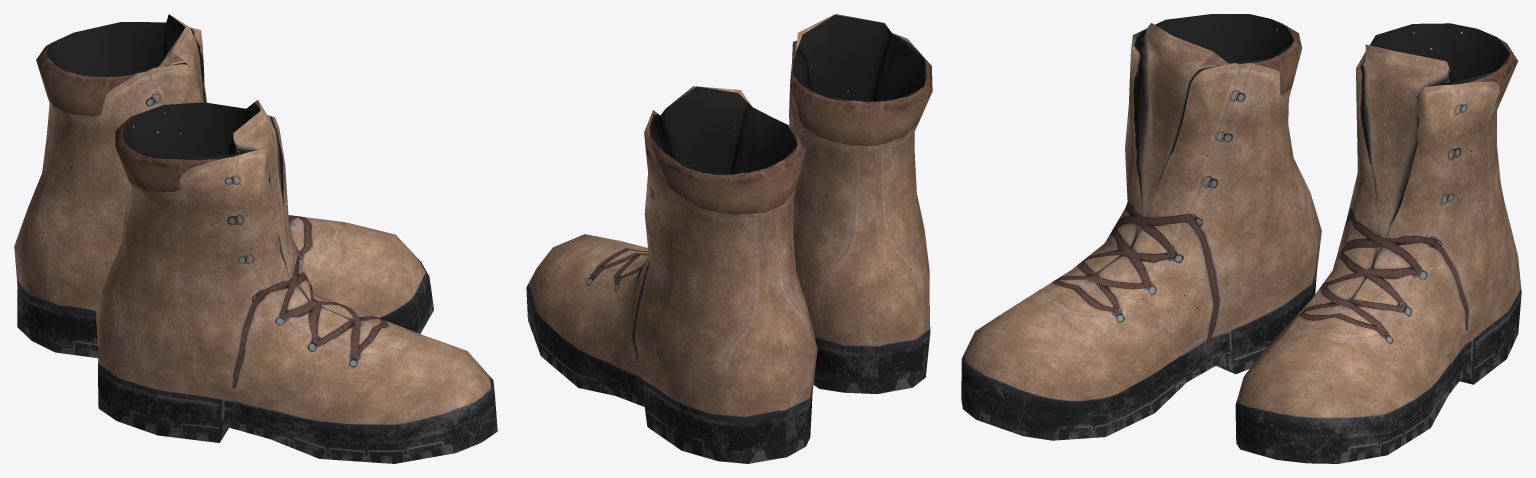
Rendered from Boot2.fbx.
The picture shows the model from 3 angles, left to right: view 1: azimuth 30°, elevation 25°; view 2: azimuth 150°, elevation 25°; view 3: azimuth 270°, elevation 25°; orthographic projection. The views are drawn at different scales.
Parts seen in each view (by area): view 1: GamesaBootRight_BootsMat_0, GamesaBootLeft_BootsMat_0; view 2: GamesaBootLeft_BootsMat_0, GamesaBootRight_BootsMat_0; view 3: GamesaBootRight_BootsMat_0, GamesaBootLeft_BootsMat_0.
Part boxes in pixels (<box>): GamesaBootRight_BootsMat_0: <box>95,100,497,463</box>; GamesaBootLeft_BootsMat_0: <box>14,14,433,358</box>; GamesaBootLeft_BootsMat_0: <box>526,86,817,463</box>; GamesaBootRight_BootsMat_0: <box>789,14,932,393</box>; GamesaBootRight_BootsMat_0: <box>961,14,1321,440</box>; GamesaBootLeft_BootsMat_0: <box>1235,23,1521,463</box>.
Size of the model in its own units: 33.08 by 28.13 by 43.36.
Materials: 1 (1 with a texture image).
